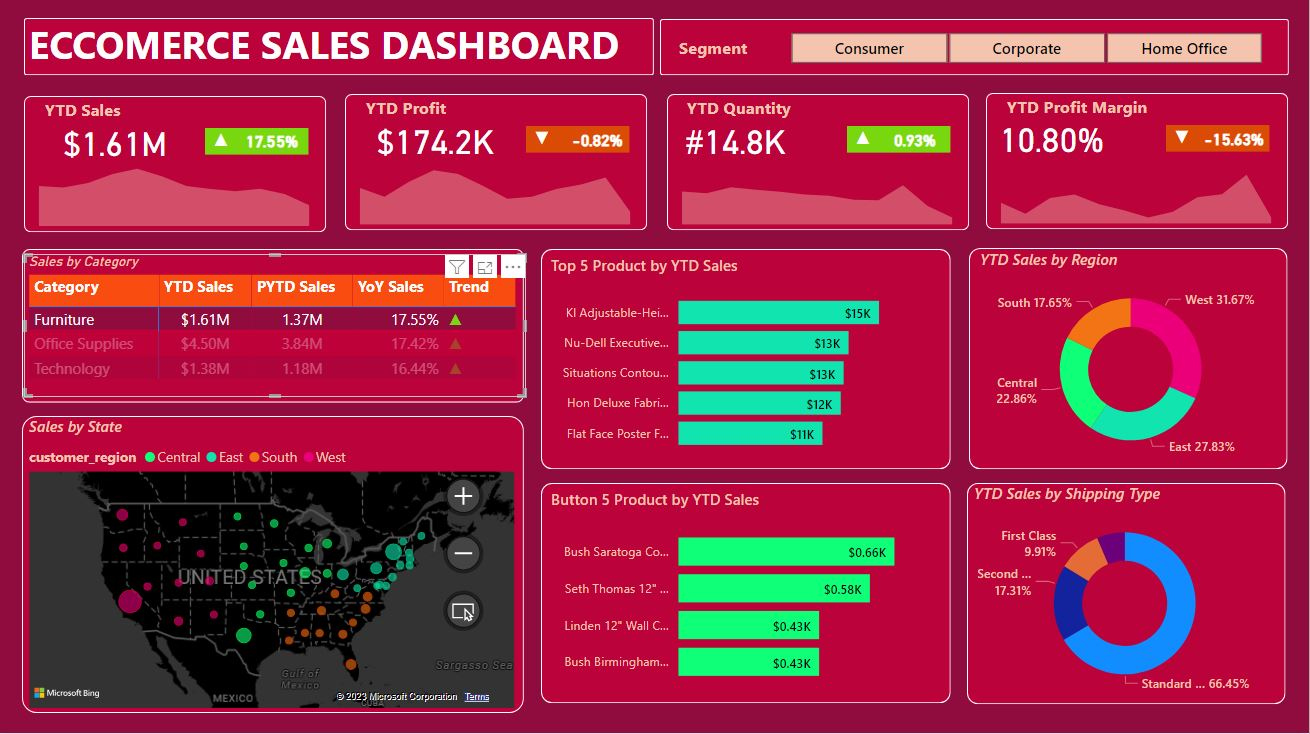

What the dashboard file says about the page in this screenshot:
{"tool":"powerbi","page":{"name":"Page 1","canvas":[1280,720],"ordinal":0},"visuals":[{"type":"shape","box":[25.8,21.8,614.6,55.5],"z":0},{"type":"textbox","box":[25.5,17,607,65.9],"z":1000},{"type":"shape","box":[25.8,97.2,295.4,132.8],"z":2000},{"type":"card","fields":{"Values":["ecommerce_data.YTD"]},"box":[41.5,119.1,145.6,44.7],"z":3000},{"type":"areaChart","fields":{"Category":["Calender.Month"],"Y":["Sum(ecommerce_data.sales_per_order)"]},"box":[25.5,141.4,293.4,88.2],"z":4000},{"type":"shape","box":[202,128.6,101,25.5],"z":5000},{"type":"card","fields":{"Values":["ecommerce_data.YoY Sales"]},"box":[232.8,128.6,70.2,25.5],"z":6000},{"type":"card","fields":{"Values":["ecommerce_data.Sales Icon"]},"box":[202,126.5,30.8,28.7],"z":7000},{"type":"textbox","box":[41.5,94.6,104.2,31.9],"z":8000},{"type":"shape","box":[339.1,95.7,295.4,132.8],"z":9000},{"type":"card","fields":{"Values":["ecommerce_data.YTD Profit"]},"box":[339.1,117,176.5,44.7],"z":10000},{"type":"areaChart","fields":{"Category":["Calender.Month"],"Y":["Sum(ecommerce_data.profit_per_order)"]},"box":[339.1,153.2,293.4,75.5],"z":11000},{"type":"shape","box":[515.3,127.2,101,25.5],"z":12000},{"type":"card","fields":{"Values":["ecommerce_data.YoY Profit"]},"box":[553.8,127.6,62.7,25.5],"z":13000},{"type":"card","fields":{"Values":["ecommerce_data.Profit Icon"]},"box":[515.3,125,30.8,28.7],"z":14000},{"type":"textbox","box":[354.8,93.1,104.2,31.9],"z":15000},{"type":"shape","box":[652.7,95.7,295.4,132.8],"z":16000},{"type":"card","fields":{"Values":["ecommerce_data.YTD Concatenated Qty"]},"box":[653.8,116.9,131.8,44.7],"z":17000},{"type":"areaChart","fields":{"Category":["Calender.Month"],"Y":["Sum(ecommerce_data.order_quantity)"]},"box":[652.7,153.2,293.4,75.5],"z":18000},{"type":"shape","box":[828.9,127.2,101,25.5],"z":19000},{"type":"card","fields":{"Values":["ecommerce_data.YoY Qty"]},"box":[860.1,127.6,70.2,25.5],"z":20000},{"type":"card","fields":{"Values":["ecommerce_data.Qty Icon"]},"box":[828.9,125,30.8,28.7],"z":21000},{"type":"textbox","box":[668.2,93.2,176.5,31.9],"z":22000},{"type":"shape","box":[964.3,94.7,295.4,132.8],"z":23000},{"type":"card","fields":{"Values":["ecommerce_data.YTD Profit Margin"]},"box":[962.3,115.2,131.8,44.7],"z":24000},{"type":"areaChart","fields":{"Category":["Calender.Month"],"Y":["ecommerce_data.Profit Margin"]},"box":[964.3,152.2,293.4,75.5],"z":25000},{"type":"shape","box":[1140.5,126.2,101,25.5],"z":26000},{"type":"card","fields":{"Values":["ecommerce_data.YoY Profit Margin"]},"box":[1171.6,126.5,70.2,25.5],"z":27000},{"type":"card","fields":{"Values":["ecommerce_data.Profit Margin Icon"]},"box":[1140.5,124.1,30.8,28.7],"z":28000},{"type":"textbox","box":[979.8,92.2,176.5,31.9],"z":29000},{"type":"shape","box":[23.4,246.7,490,150],"z":30000},{"type":"pivotTable","title":"Sales by Category","fields":{"Rows":["ecommerce_data.category_name"],"Values":["ecommerce_data.YTD Sales","ecommerce_data.PYTD Sales","ecommerce_data.YoY Sales","ecommerce_data.Sales Icon"]},"box":[25.5,252,490.1,139.3],"z":31000},{"type":"shape","box":[23.4,410.4,490.1,290.2],"z":32000},{"type":"map","title":"Sales by State","fields":{"Y":["us_state_long_lat_codes.latitude"],"X":["us_state_long_lat_codes.longitude"],"Series":["ecommerce_data.customer_region"],"Size":["ecommerce_data.YTD Sales"]},"box":[25.5,410.4,483.7,290.2],"z":33000},{"type":"shape","box":[530.5,246.6,399.7,215],"z":34000},{"type":"shape","box":[530.5,475.2,399.7,215],"z":35000},{"type":"barChart","title":"Top 5 Product by YTD Sales ","fields":{"Category":["ecommerce_data.product_name"],"Y":["ecommerce_data.YTD Sales"]},"box":[535.3,252.6,389.6,203.4],"z":36000},{"type":"barChart","title":"Button 5 Product by YTD Sales ","fields":{"Category":["ecommerce_data.product_name"],"Y":["ecommerce_data.YTD Sales"]},"box":[535.3,481,389.6,203.4],"z":37000},{"type":"shape","box":[948.3,245.6,311.5,215.8],"z":38000},{"type":"shape","box":[946.2,475.2,311.5,215.8],"z":39000},{"type":"donutChart","title":"YTD Sales by Region","fields":{"Category":["ecommerce_data.customer_region"],"Y":["ecommerce_data.YTD Sales"]},"box":[953.6,246.6,304.1,214.8],"z":40000},{"type":"donutChart","title":"YTD Sales by Shipping Type","fields":{"Y":["ecommerce_data.YTD Sales"],"Category":["ecommerce_data.shipping_type"]},"box":[948.3,475.2,304.1,214.8],"z":41000},{"type":"shape","box":[646.4,22.3,614.5,55.3],"z":42000},{"type":"slicer","fields":{"Values":["ecommerce_data.customer_segment"]},"box":[748.4,29.8,509.2,40.4],"z":43000},{"type":"textbox","box":[660.2,34,118,31.9],"z":44000}]}

Visuals, with their boxes in screenshot pixels (x1, y1, x2, y2), scaled from the page's 1280x720 canvas onto the 1310x734 screenshot:
shape: bbox(26, 22, 655, 79)
textbox: bbox(26, 17, 647, 85)
shape: bbox(26, 99, 329, 234)
card - ecommerce_data.YTD: bbox(42, 121, 191, 167)
areaChart - Calender.Month x Sum(ecommerce_data.sales_per_order): bbox(26, 144, 326, 234)
shape: bbox(207, 131, 310, 157)
card - ecommerce_data.YoY Sales: bbox(238, 131, 310, 157)
card - ecommerce_data.Sales Icon: bbox(207, 129, 238, 158)
textbox: bbox(42, 96, 149, 129)
shape: bbox(347, 98, 649, 233)
card - ecommerce_data.YTD Profit: bbox(347, 119, 528, 165)
areaChart - Calender.Month x Sum(ecommerce_data.profit_per_order): bbox(347, 156, 647, 233)
shape: bbox(527, 130, 631, 156)
card - ecommerce_data.YoY Profit: bbox(567, 130, 631, 156)
card - ecommerce_data.Profit Icon: bbox(527, 127, 559, 157)
textbox: bbox(363, 95, 470, 127)
shape: bbox(668, 98, 970, 233)
card - ecommerce_data.YTD Concatenated Qty: bbox(669, 119, 804, 165)
areaChart - Calender.Month x Sum(ecommerce_data.order_quantity): bbox(668, 156, 968, 233)
shape: bbox(848, 130, 952, 156)
card - ecommerce_data.YoY Qty: bbox(880, 130, 952, 156)
card - ecommerce_data.Qty Icon: bbox(848, 127, 880, 157)
textbox: bbox(684, 95, 864, 128)
shape: bbox(987, 97, 1289, 232)
card - ecommerce_data.YTD Profit Margin: bbox(985, 117, 1120, 163)
areaChart - Calender.Month x ecommerce_data.Profit Margin: bbox(987, 155, 1287, 232)
shape: bbox(1167, 129, 1271, 155)
card - ecommerce_data.YoY Profit Margin: bbox(1199, 129, 1271, 155)
card - ecommerce_data.Profit Margin Icon: bbox(1167, 127, 1199, 156)
textbox: bbox(1003, 94, 1183, 127)
shape: bbox(24, 251, 525, 404)
"Sales by Category" pivotTable: bbox(26, 257, 528, 399)
shape: bbox(24, 418, 526, 714)
"Sales by State" map: bbox(26, 418, 521, 714)
shape: bbox(543, 251, 952, 471)
shape: bbox(543, 484, 952, 704)
"Top 5 Product by YTD Sales " barChart: bbox(548, 258, 947, 465)
"Button 5 Product by YTD Sales " barChart: bbox(548, 490, 947, 698)
shape: bbox(971, 250, 1289, 470)
shape: bbox(968, 484, 1287, 704)
"YTD Sales by Region" donutChart: bbox(976, 251, 1287, 470)
"YTD Sales by Shipping Type" donutChart: bbox(971, 484, 1282, 703)
shape: bbox(662, 23, 1290, 79)
slicer - ecommerce_data.customer_segment: bbox(766, 30, 1287, 72)
textbox: bbox(676, 35, 796, 67)
